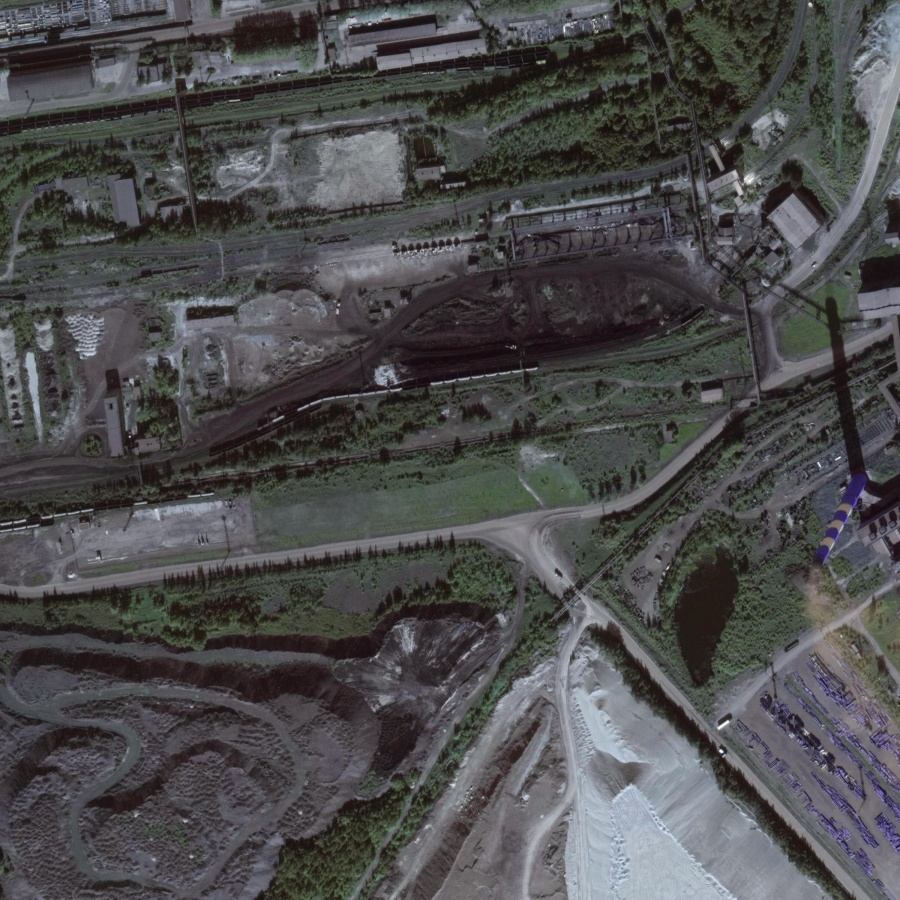PowerPlant: (273, 232, 713, 397)
